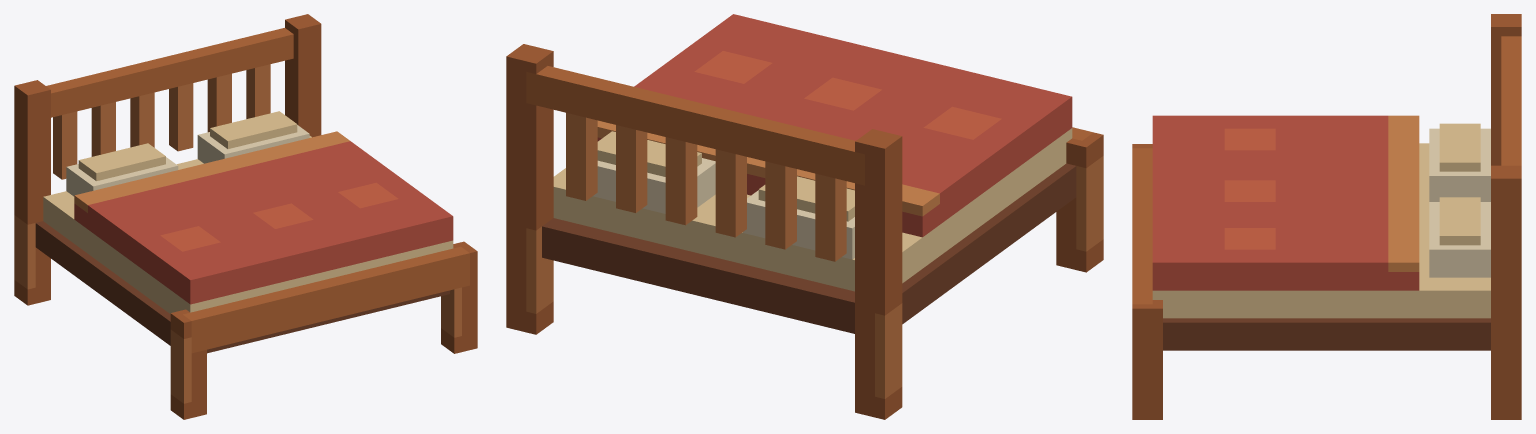
File: DoubleBed_2x2.fbx
The picture shows the model from 3 angles, left to right: view 1: azimuth 30°, elevation 25°; view 2: azimuth 150°, elevation 25°; view 3: azimuth 270°, elevation 25°; orthographic projection. The views are drawn at different scales.
Parts seen in each view (by area): view 1: Red_Blanket, Bed_Frame_Front, Headboard_Posts, Headboard_Top, Headboard_Slats, Mattress, Bed_Frame, Square_Posts, Pillows_Light, Square_Post_Tips, Blanket_Trim, Pillows (+1 smaller); view 2: Red_Blanket, Bed_Frame, Headboard_Slats, Mattress, Headboard_Top, Headboard_Posts, Square_Posts, Square_Post_Tips, Blanket_Pixel_Variation, Pillows, Pillows_Light, Blanket_Trim; view 3: Red_Blanket, Mattress, Bed_Frame, Square_Posts, Headboard_Posts, Pillows, Blanket_Trim, Pillows_Light, Blanket_Pixel_Variation, Bed_Frame_Front, Headboard_Top.
Part boxes in pixels (x1=…): Red_Blanket: x1=74, y1=141, x2=453, y2=304; Bed_Frame_Front: x1=183, y1=246, x2=469, y2=353; Headboard_Posts: x1=14, y1=14, x2=321, y2=208; Headboard_Top: x1=46, y1=28, x2=293, y2=117; Headboard_Slats: x1=53, y1=64, x2=270, y2=179; Mattress: x1=43, y1=136, x2=453, y2=313; Bed_Frame: x1=35, y1=221, x2=449, y2=353; Square_Posts: x1=14, y1=199, x2=477, y2=419; Pillows_Light: x1=78, y1=111, x2=297, y2=181; Square_Post_Tips: x1=14, y1=215, x2=461, y2=403; Blanket_Trim: x1=74, y1=131, x2=349, y2=212; Pillows: x1=66, y1=125, x2=309, y2=196; Red_Blanket: x1=597, y1=14, x2=1072, y2=237; Bed_Frame: x1=542, y1=163, x2=1076, y2=333; Headboard_Slats: x1=566, y1=113, x2=846, y2=261; Mattress: x1=553, y1=128, x2=1072, y2=291; Headboard_Top: x1=526, y1=66, x2=864, y2=185; Headboard_Posts: x1=506, y1=44, x2=902, y2=294; Square_Posts: x1=506, y1=132, x2=1103, y2=419; Square_Post_Tips: x1=526, y1=156, x2=1103, y2=398; Blanket_Pixel_Variation: x1=694, y1=51, x2=1001, y2=139; Pillows: x1=593, y1=158, x2=854, y2=259; Pillows_Light: x1=597, y1=131, x2=854, y2=221; Blanket_Trim: x1=597, y1=120, x2=939, y2=216; Red_Blanket: x1=1152, y1=115, x2=1419, y2=290; Mattress: x1=1152, y1=143, x2=1490, y2=318; Bed_Frame: x1=1163, y1=318, x2=1490, y2=350; Square_Posts: x1=1132, y1=144, x2=1521, y2=419; Headboard_Posts: x1=1491, y1=14, x2=1521, y2=308; Pillows: x1=1429, y1=128, x2=1490, y2=277; Blanket_Trim: x1=1388, y1=115, x2=1419, y2=271; Pillows_Light: x1=1439, y1=123, x2=1480, y2=245; Blanket_Pixel_Variation: x1=1224, y1=128, x2=1275, y2=249; Bed_Frame_Front: x1=1132, y1=148, x2=1152, y2=304; Headboard_Top: x1=1501, y1=36, x2=1521, y2=165.
Bounding box in the file's own units: 190 × 130 × 190.
